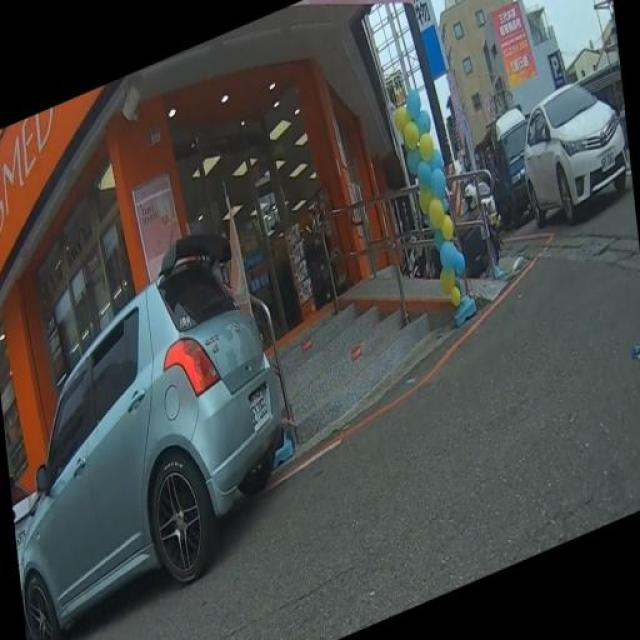Legalparking: (13, 60, 634, 620)
